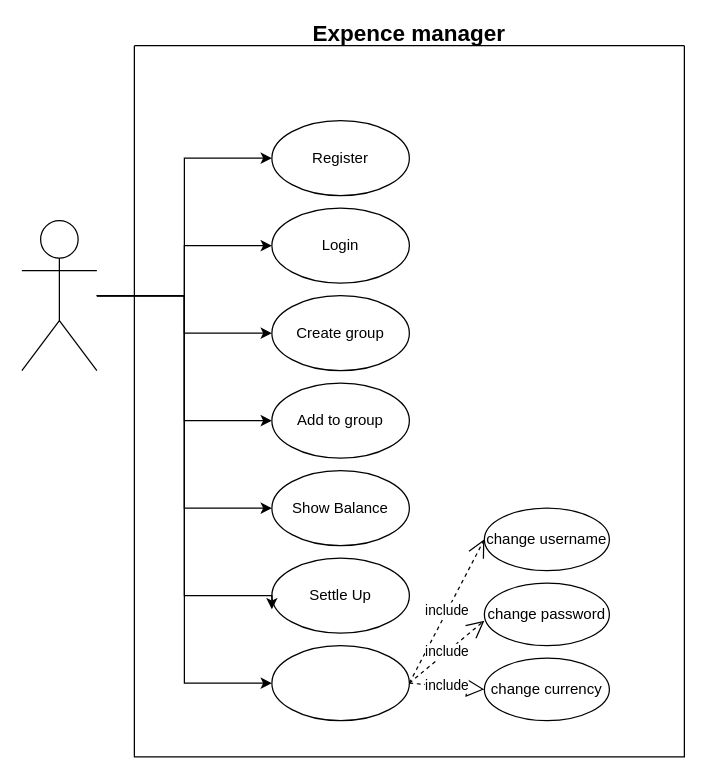
The diagram is 706 pixels wide and 779 high, and some of its shapes have lost their labels. Each missing label, with the box of its shape:
Manage account details: (271, 644, 409, 721)
User: (21, 219, 97, 371)
